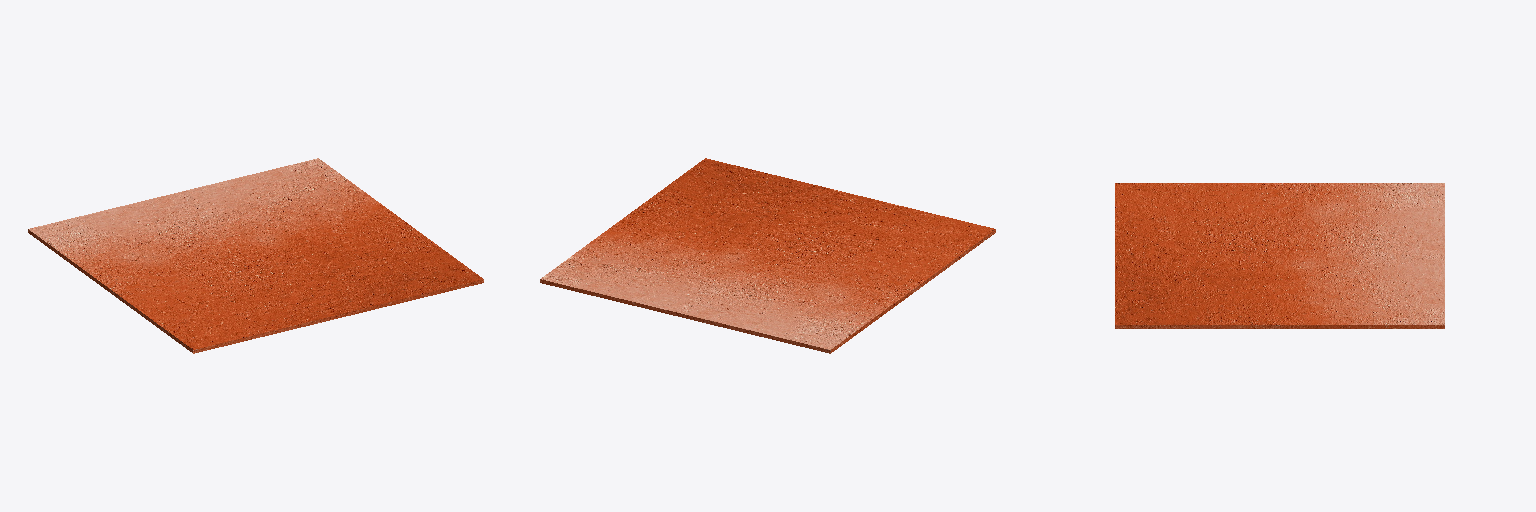
The picture shows the model from 3 angles: view 1: azimuth 30°, elevation 25°; view 2: azimuth 150°, elevation 25°; view 3: azimuth 270°, elevation 25°; orthographic projection.
Parts seen in each view (by area): view 1: pCube1; view 2: pCube1; view 3: pCube1.
Boxes of the visible parts, box(x1,y1,x2,y2) form: pCube1: box(28, 158, 483, 353); pCube1: box(540, 158, 995, 353); pCube1: box(1115, 183, 1444, 328).
Size of the model in its own units: 24.23 by 0.3048 by 23.87.
1 materials, 1 textured.